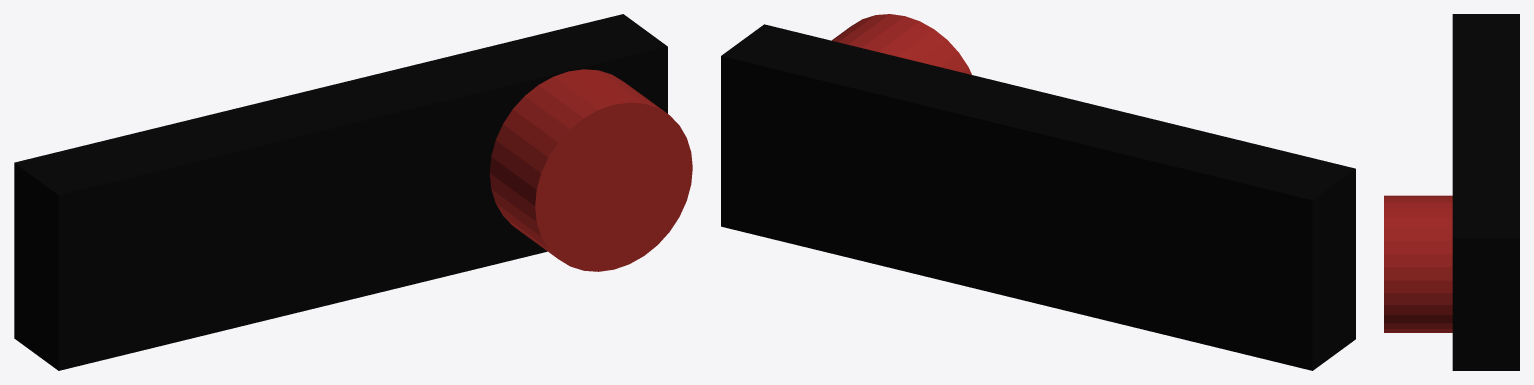
The model's file is shtecker.fbx.
The picture shows the model from 3 angles, left to right: view 1: azimuth 30°, elevation 25°; view 2: azimuth 150°, elevation 25°; view 3: azimuth 270°, elevation 25°; orthographic projection. The views are drawn at different scales.
Parts seen in each view (by area): view 1: Cube, Цилиндр; view 2: Cube, Цилиндр; view 3: Cube, Цилиндр.
Boxes of the visible parts, <box> form: Cube: <box>14,14,667,370</box>; Цилиндр: <box>489,69,692,271</box>; Cube: <box>721,24,1355,370</box>; Цилиндр: <box>832,14,971,74</box>; Cube: <box>1452,14,1519,370</box>; Цилиндр: <box>1384,195,1452,332</box>.
Bounding box in the file's own units: 38.09 × 10.5 × 9.75.
